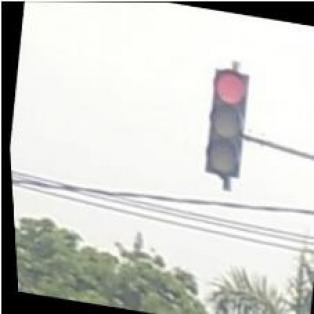Semaforo Rojo: (195, 65, 253, 176)
